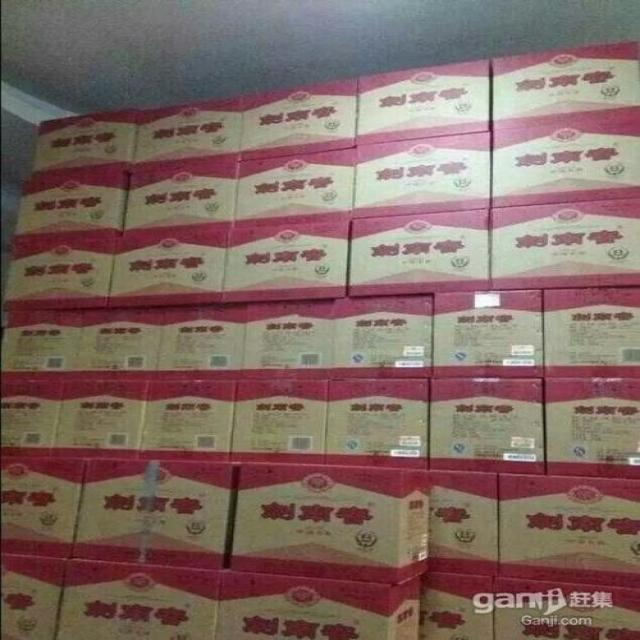box: (230, 464, 429, 586), (69, 459, 238, 568), (500, 474, 640, 587), (215, 572, 424, 640), (492, 39, 640, 131), (492, 114, 640, 206), (490, 200, 640, 290), (54, 561, 221, 640), (347, 208, 490, 298), (352, 132, 493, 219), (356, 58, 490, 148), (429, 379, 544, 475), (221, 219, 352, 302), (431, 289, 545, 379), (233, 148, 356, 228), (545, 377, 640, 479), (239, 77, 355, 160), (108, 228, 228, 308), (325, 379, 429, 470), (122, 157, 241, 236), (330, 293, 435, 379), (495, 577, 640, 639), (0, 455, 84, 559), (9, 171, 131, 242), (1, 237, 120, 309), (544, 288, 640, 377), (230, 379, 328, 464), (131, 96, 242, 171), (51, 379, 152, 459), (140, 380, 238, 461), (65, 305, 168, 382), (239, 299, 334, 380), (429, 471, 500, 576), (152, 302, 247, 380), (31, 110, 137, 179), (0, 309, 86, 382), (0, 555, 69, 640), (421, 570, 498, 639), (0, 382, 65, 457)
